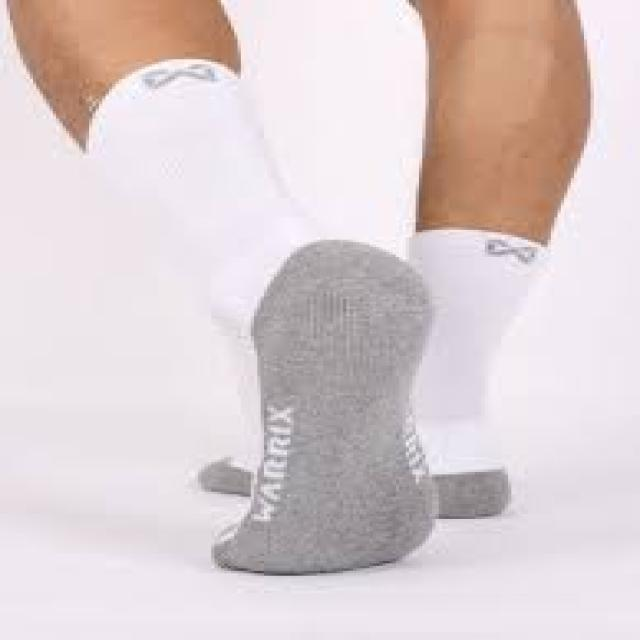sock: (208, 237, 435, 574)
